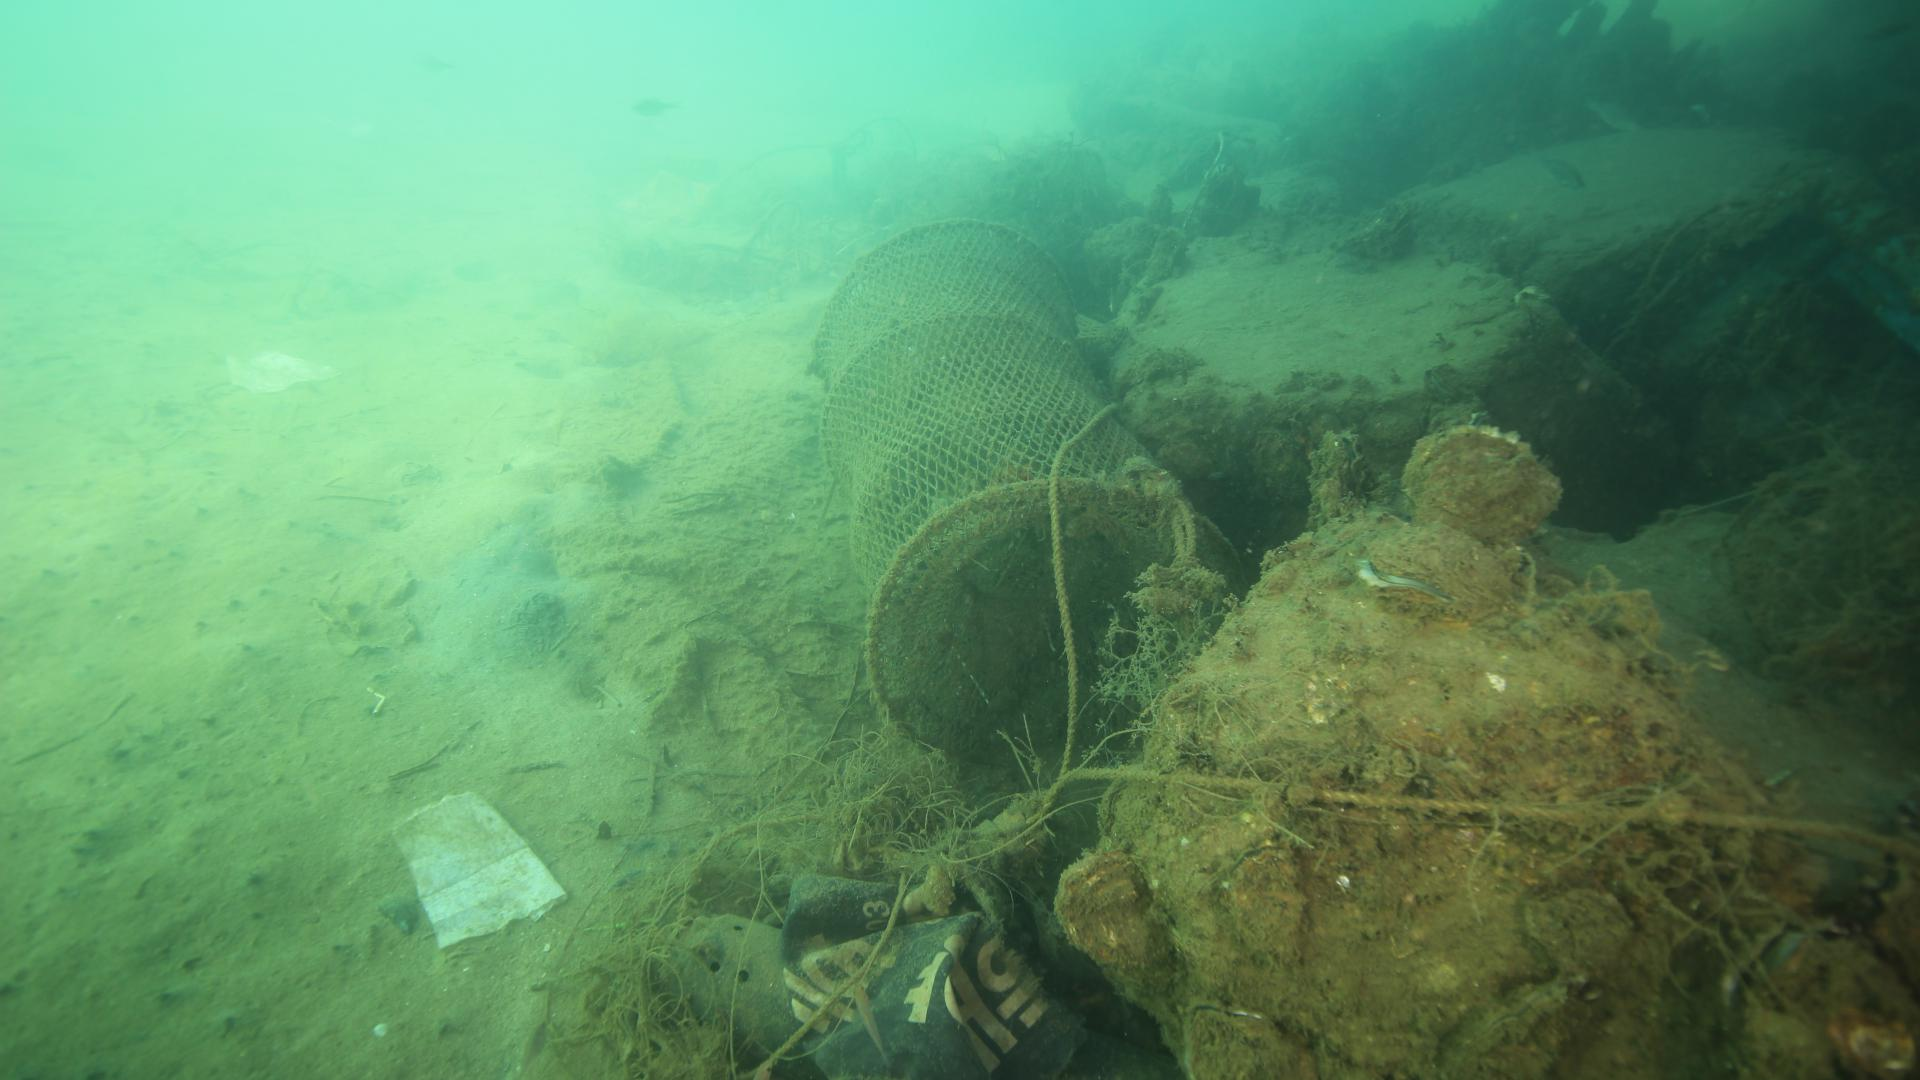rope: (1040, 767, 1920, 860), (1044, 398, 1124, 767)
spring fish trap: (794, 223, 1254, 790)
